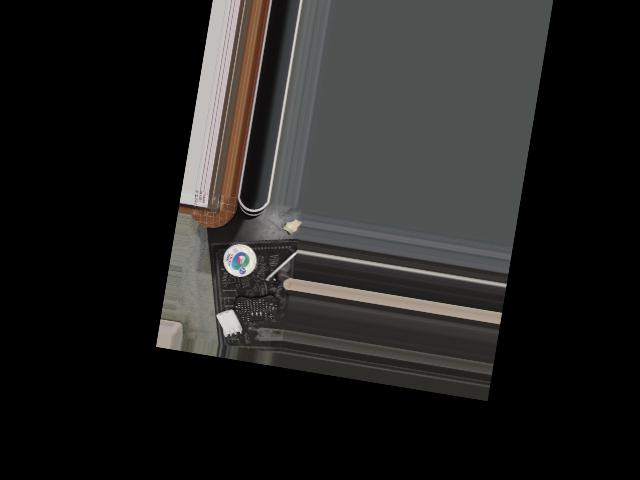cotage: (214, 238, 259, 280)
